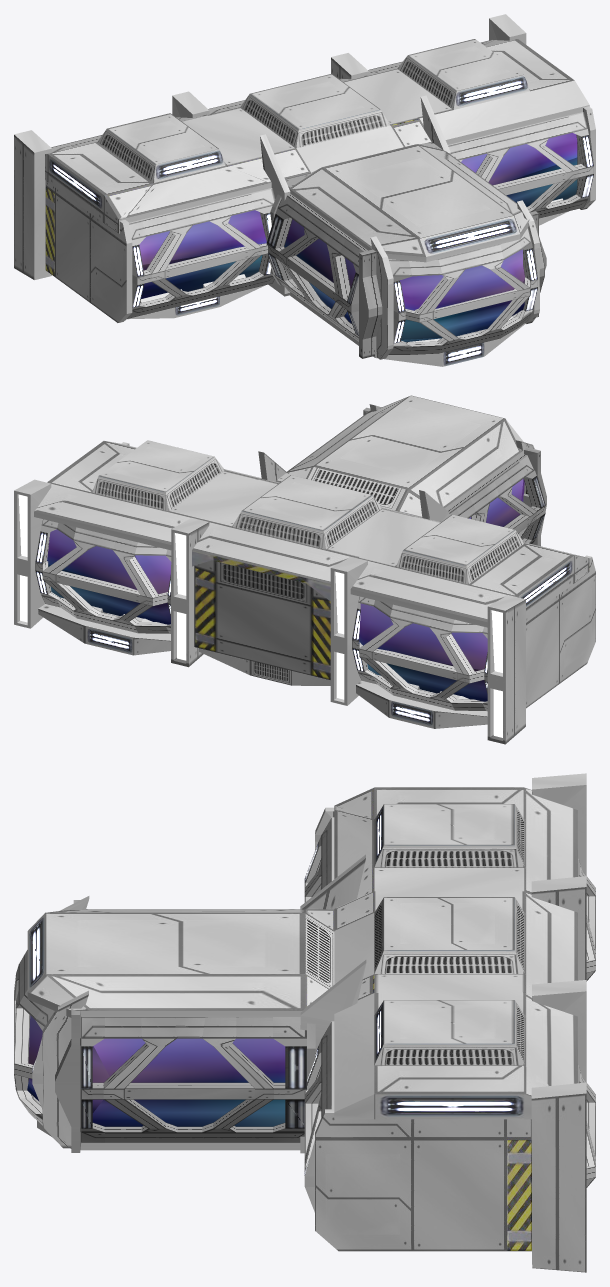
File: cristal_bot_novo_js_backup.glb
3 renders of one model, top to bottom at view 1: azimuth 30°, elevation 25°; view 2: azimuth 150°, elevation 25°; view 3: azimuth 270°, elevation 25°, orthographic. The views are drawn at different scales.
Visible parts, largest first — view 1: TetoNave, paredeNave1, chao, paredeNave2, ChaoNave; view 2: TetoNave, paredeNave1, PortaNave, chao, ChaoNave, paredeNave2; view 3: TetoNave, paredeNave1, paredeNave2, chao, ChaoNave.
Part boxes in pixels (x1=…): TetoNave: x1=45, y1=39, x2=589, y2=262; paredeNave1: x1=14, y1=14, x2=595, y2=359; chao: x1=139, y1=132, x2=577, y2=342; paredeNave2: x1=266, y1=194, x2=546, y2=358; ChaoNave: x1=127, y1=211, x2=569, y2=366; TetoNave: x1=34, y1=395, x2=589, y2=627; paredeNave1: x1=14, y1=404, x2=595, y2=744; PortaNave: x1=194, y1=560, x2=330, y2=679; chao: x1=47, y1=478, x2=524, y2=701; ChaoNave: x1=38, y1=604, x2=487, y2=728; paredeNave2: x1=363, y1=407, x2=546, y2=546; TetoNave: x1=27, y1=787, x2=577, y2=1119; paredeNave1: x1=14, y1=773, x2=595, y2=1272; paredeNave2: x1=55, y1=900, x2=317, y2=1152; chao: x1=27, y1=1015, x2=285, y2=1126; ChaoNave: x1=37, y1=1121, x2=300, y2=1150.
Bounding box in the file's own units: 54.44 × 16.44 × 41.78.
Materials: 5 (5 with a texture image).
